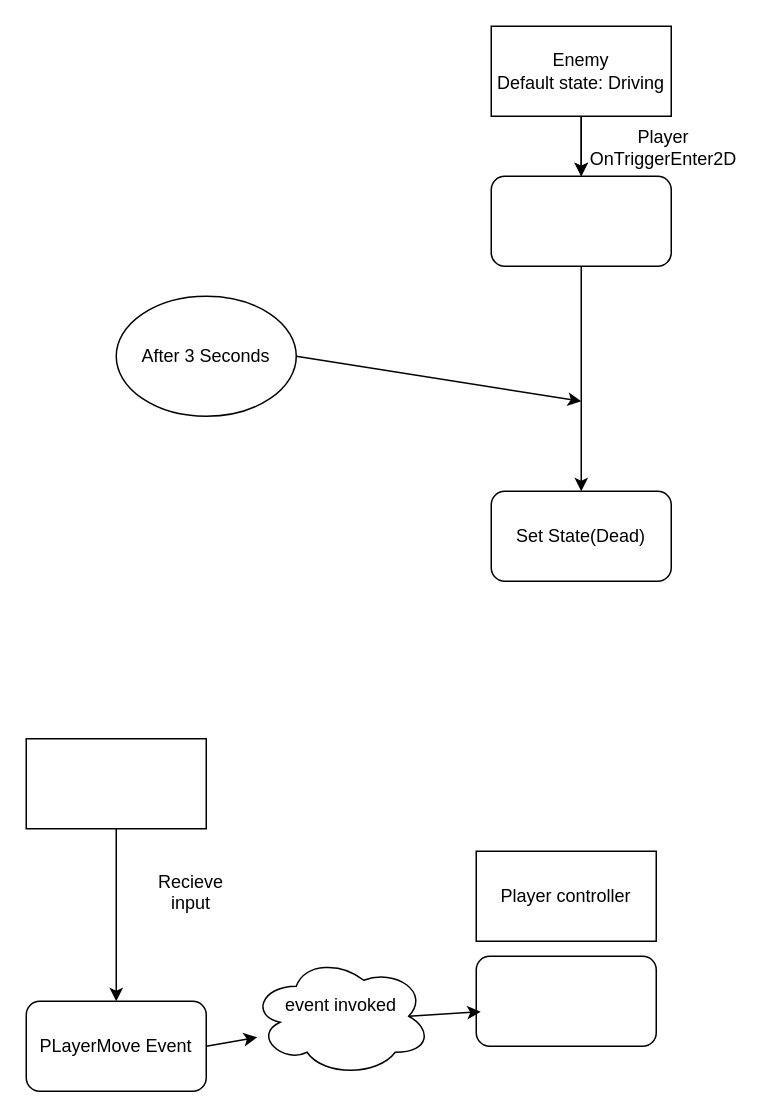
Some shapes in this 764 by 1118 pixel diagram are drawn without their labels. The shapes that lost their labels are listed below. From the top down, each one's centre as x and y in pixels, then its label:
pixel 580 220: Set State(Dying)
pixel 115 783: Player input handler
pixel 565 1000: OnPlayerMoved
